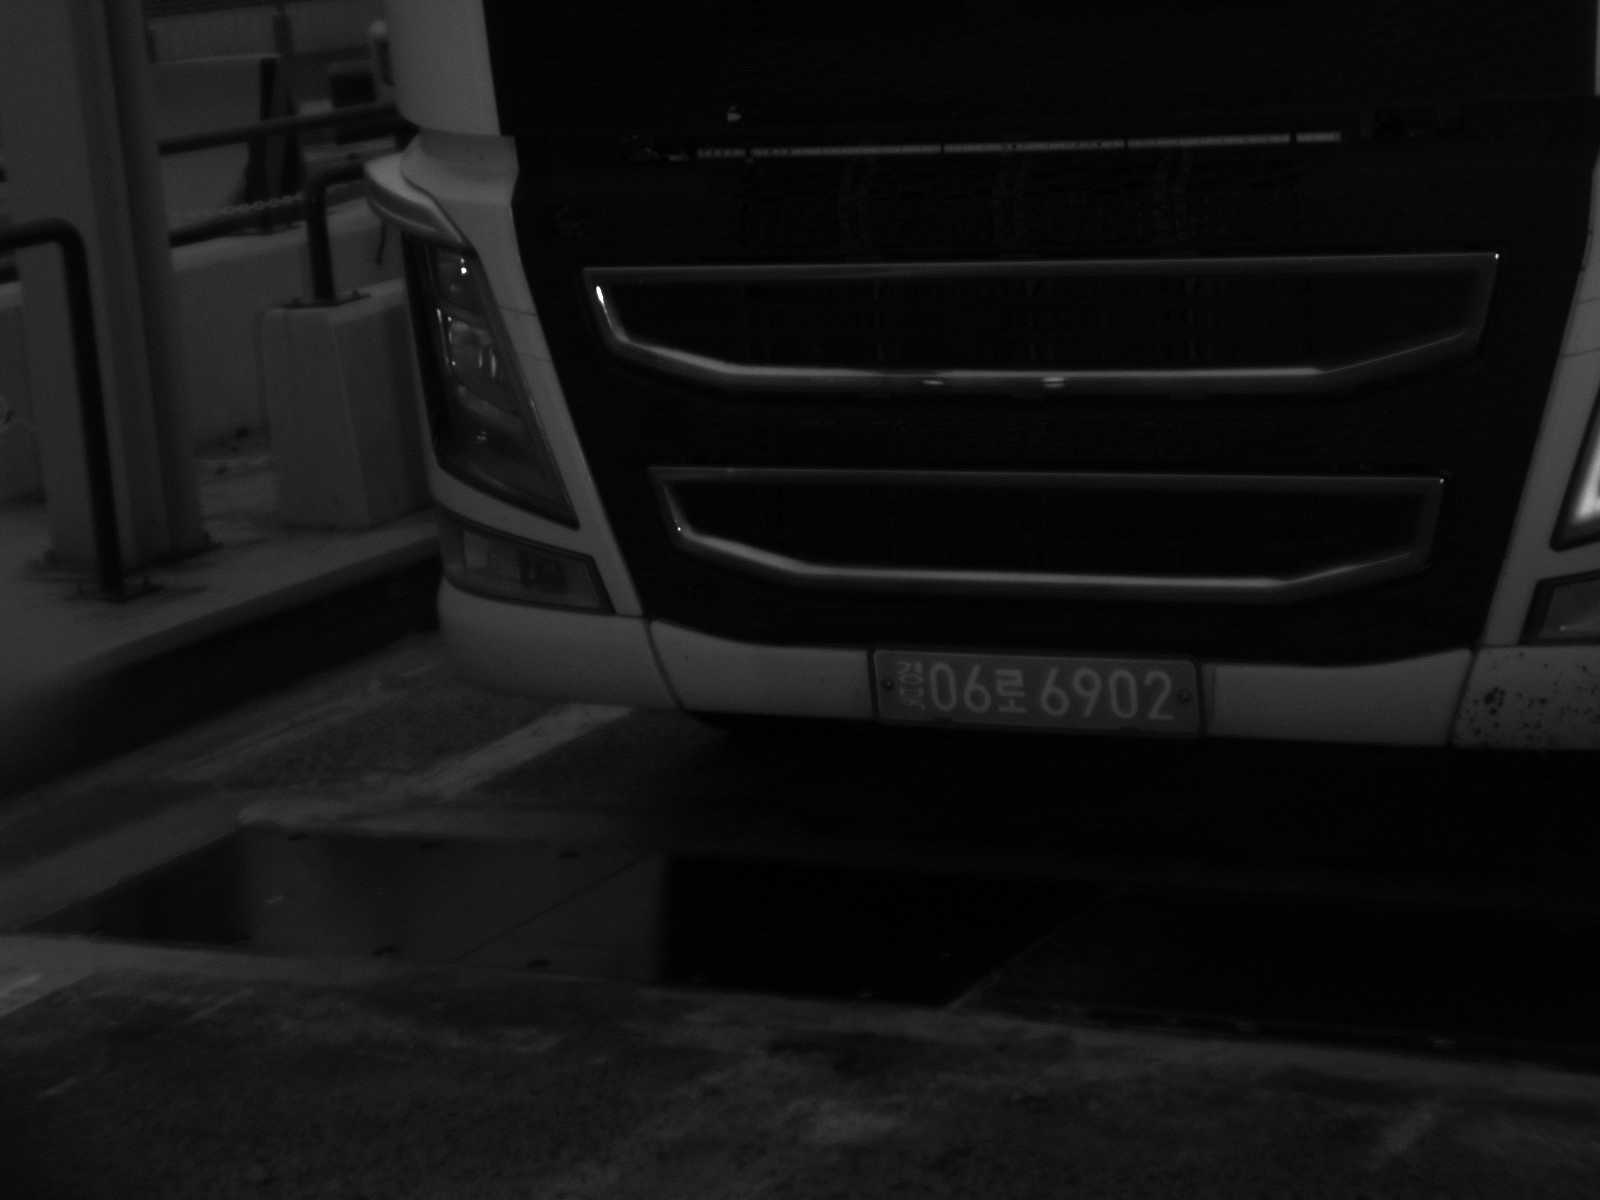car: (364, 3, 1600, 770)
plate: (865, 642, 1207, 742)
